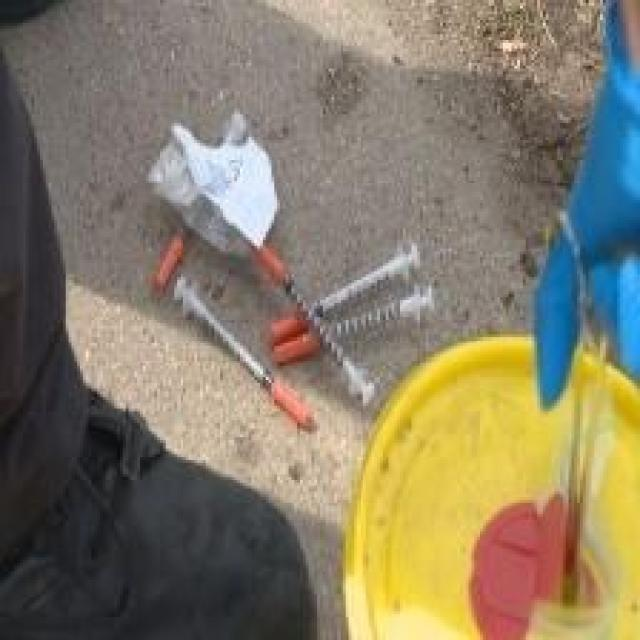syringe: (155, 196, 499, 487)
